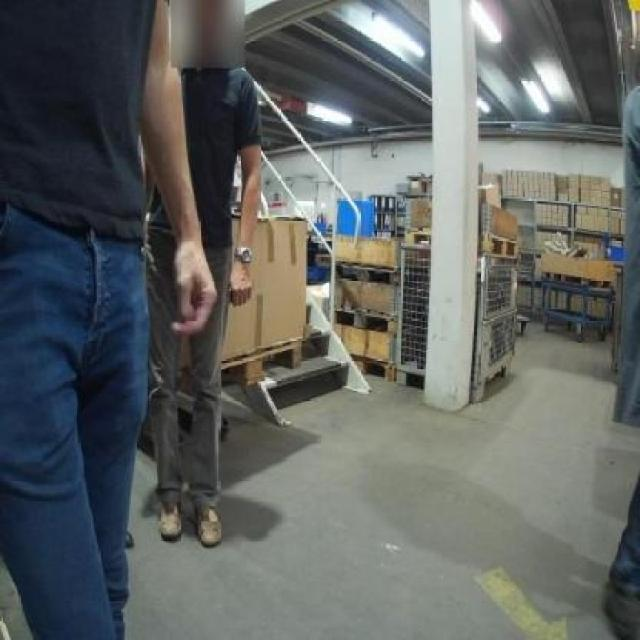pallets: (220, 217, 305, 357)
